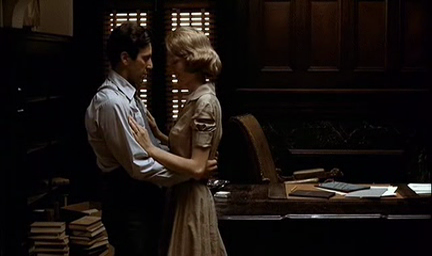face: (134, 48, 153, 85), (171, 54, 187, 87)
mls: (1, 1, 432, 256)
person: (85, 21, 192, 256), (128, 26, 226, 256)
